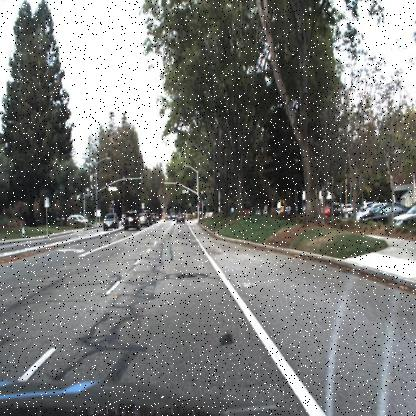car: (358, 202, 407, 228), (121, 207, 141, 230), (102, 210, 120, 232), (124, 212, 139, 230), (103, 214, 117, 230), (173, 209, 187, 224), (140, 212, 147, 225)
